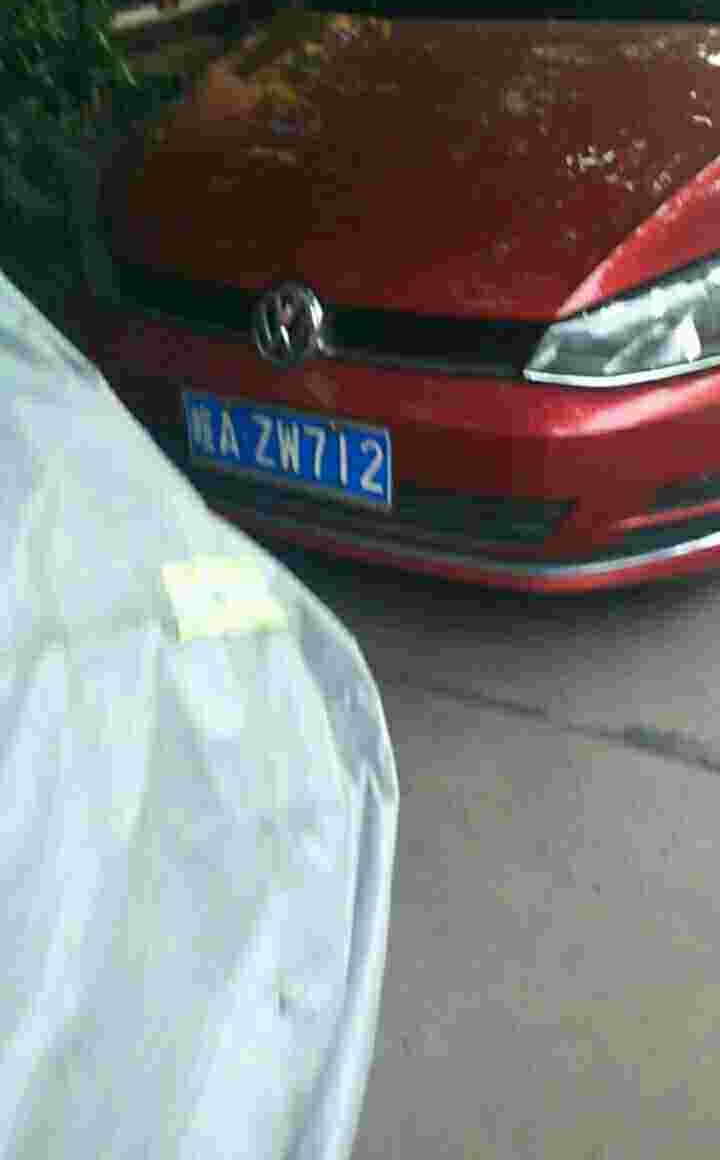plate: (181, 382, 398, 511)
